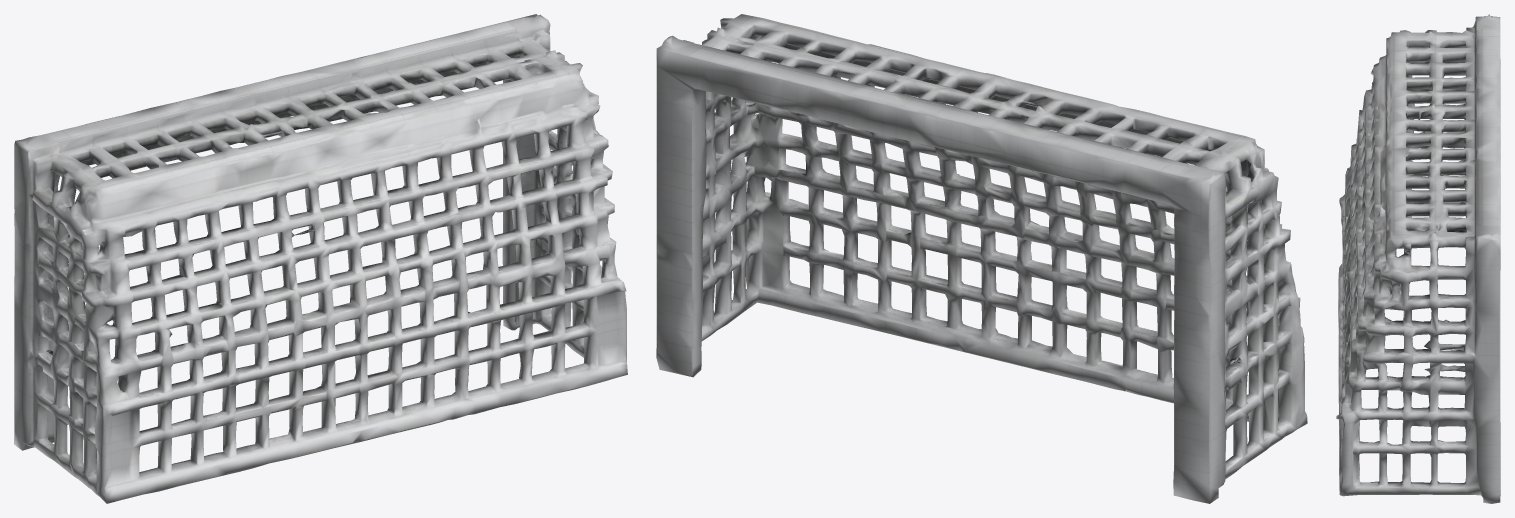
Rendered from SoccerGoal.glb.
3 renders of one model, left to right at view 1: azimuth 30°, elevation 25°; view 2: azimuth 150°, elevation 25°; view 3: azimuth 270°, elevation 25°, orthographic. The views are drawn at different scales.
Size of the model in its own units: 2 by 1.12 by 0.6241.
Materials: 1 (1 with a texture image).
